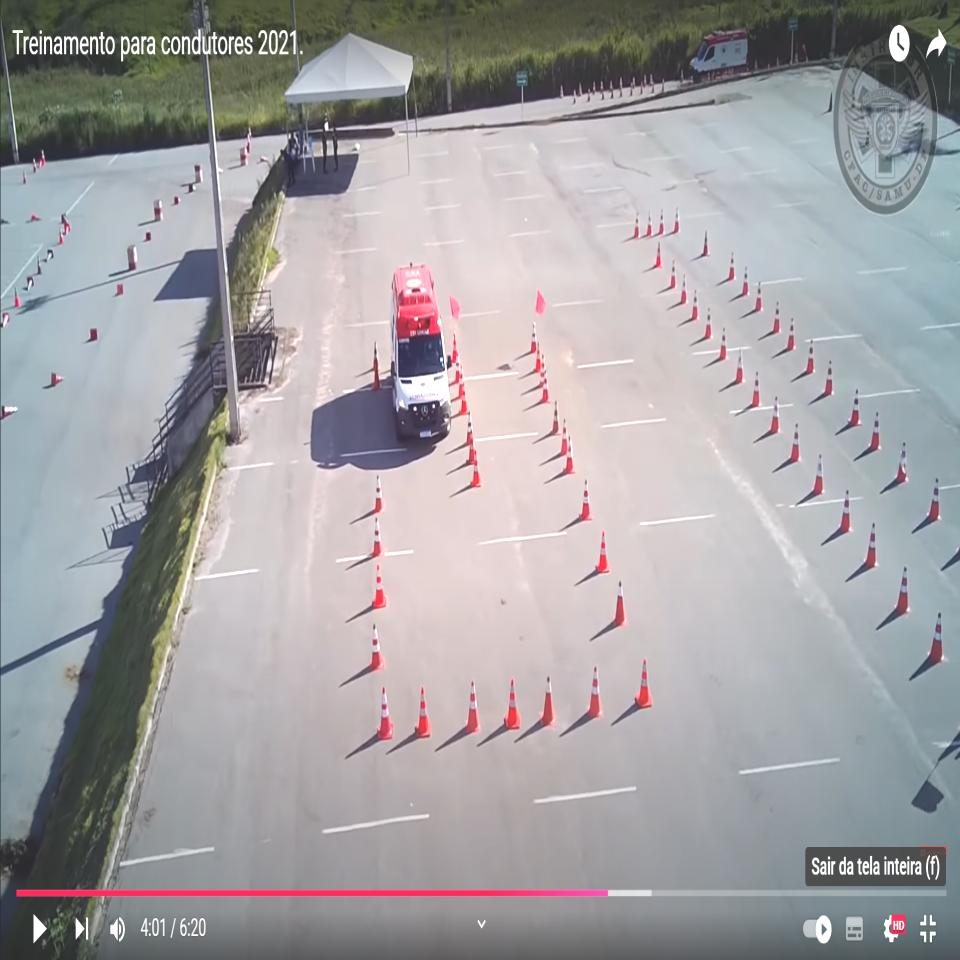ambulancia: (387, 259, 457, 445)
